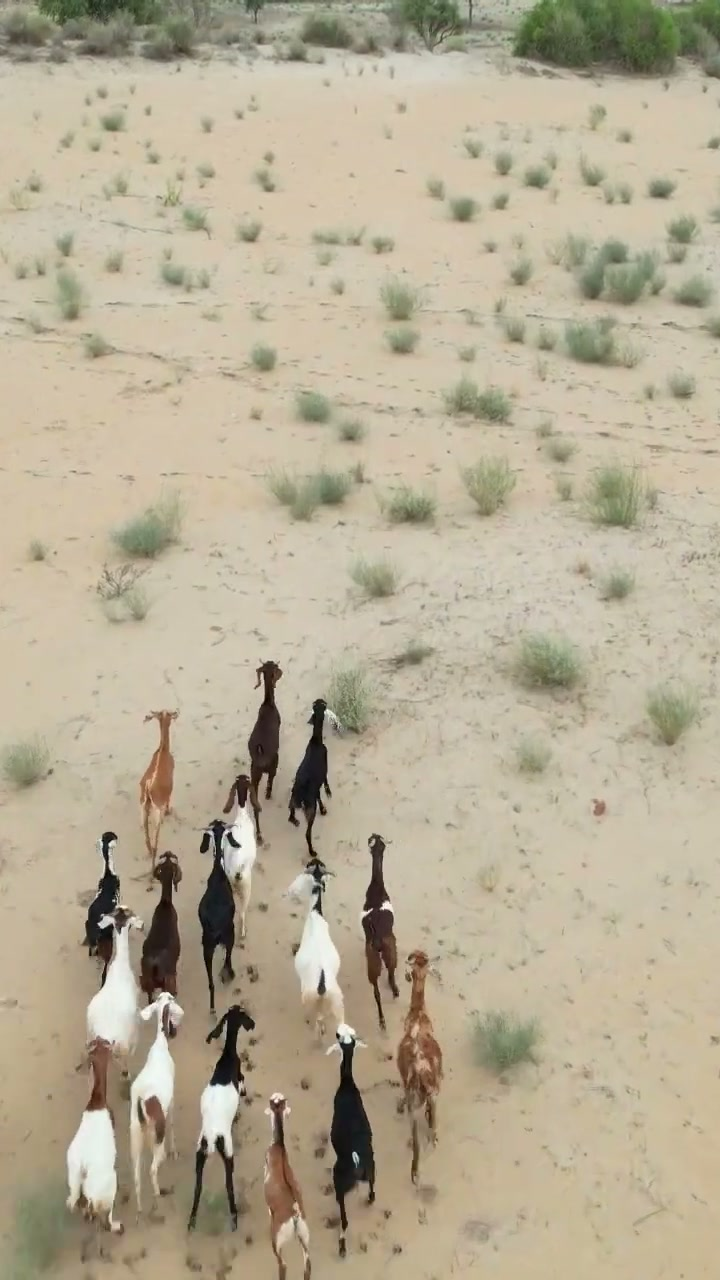animal_foot_print: (88, 1228, 252, 1279), (345, 1180, 430, 1274)
